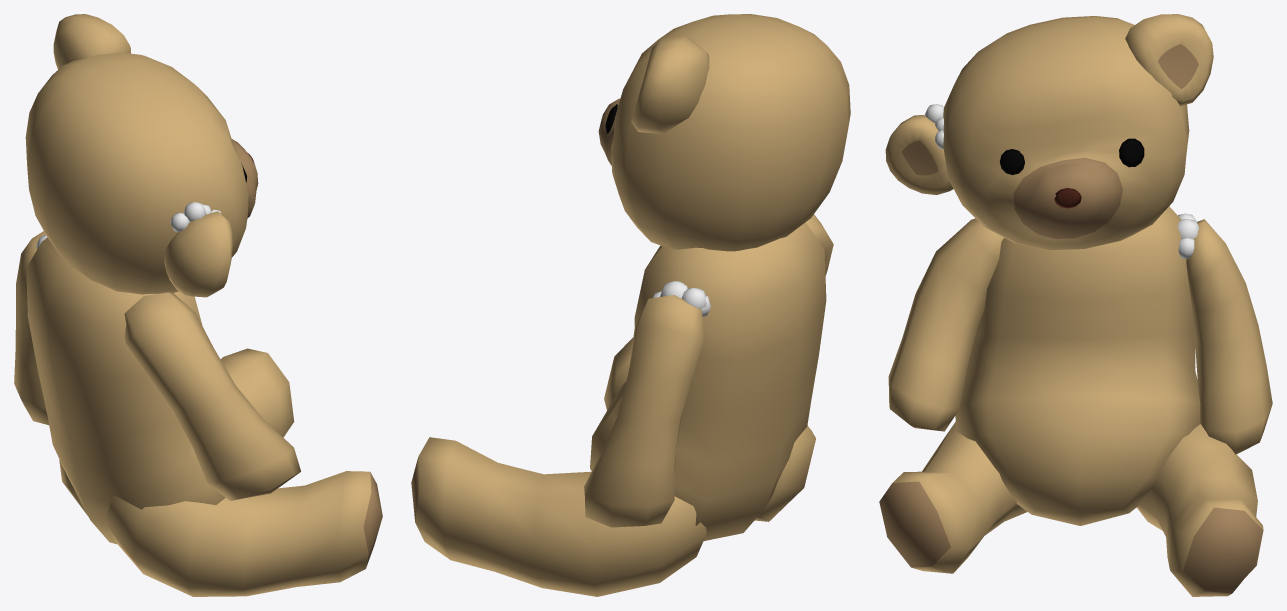
File: teddyBear.fbx
3 renders of one model, left to right at view 1: azimuth 30°, elevation 25°; view 2: azimuth 150°, elevation 25°; view 3: azimuth 270°, elevation 25°, orthographic. The views are drawn at different scales.
Visible parts, largest first — view 1: Sphere.000; view 2: Sphere.000; view 3: Sphere.000.
Boxes of the visible parts, box(x1,y1,x2,y2) form: Sphere.000: box(14, 14, 382, 596); Sphere.000: box(411, 14, 850, 596); Sphere.000: box(879, 14, 1272, 596).
Bounding box in the file's own units: 16.32 × 25.84 × 18.39.
